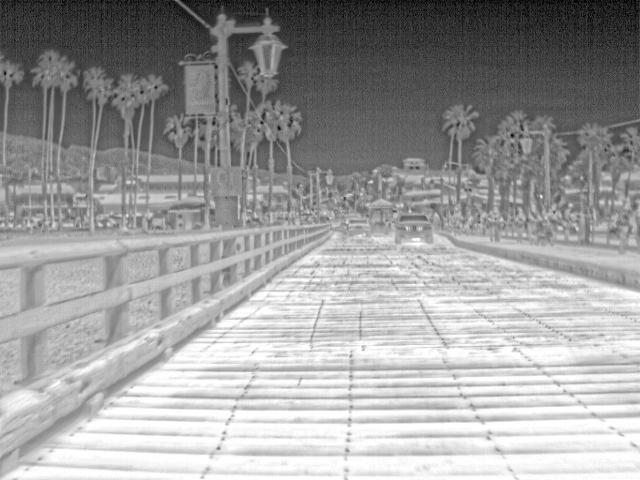car: (394, 212, 434, 243), (342, 214, 373, 234)
person: (487, 203, 506, 244), (525, 202, 542, 244), (515, 203, 527, 239), (561, 200, 578, 224)
